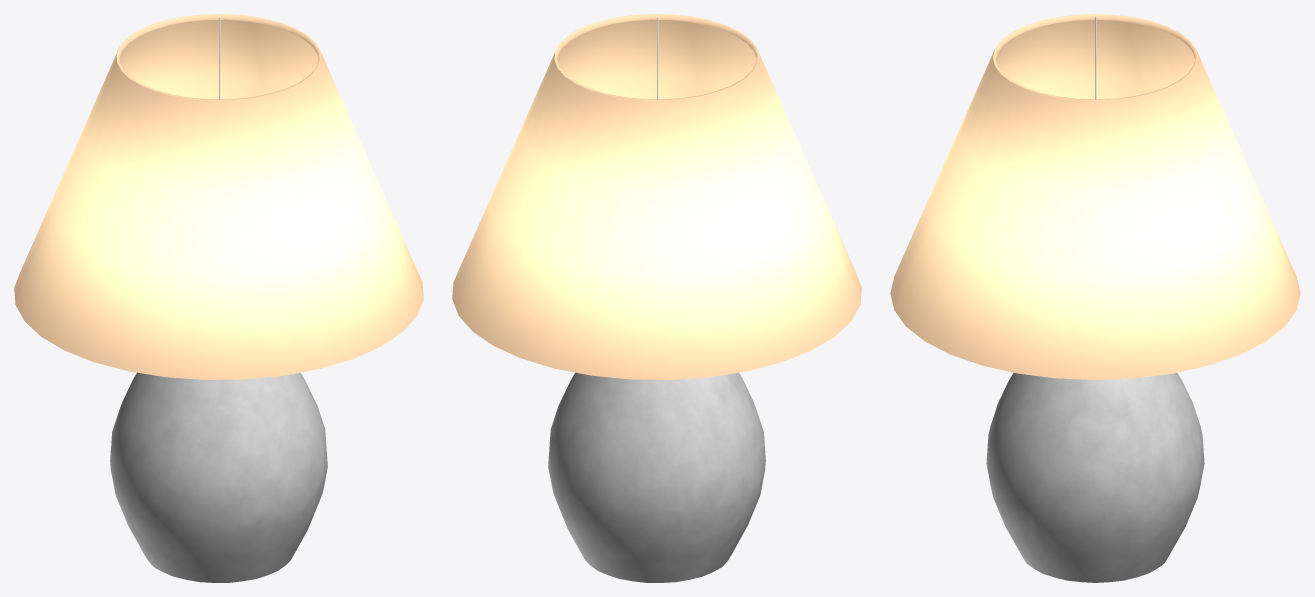
Rendered from NH11TableLamp.fbx.
3 views of the same model, side by side, from view 1: azimuth 30°, elevation 25°; view 2: azimuth 150°, elevation 25°; view 3: azimuth 270°, elevation 25° (orthographic).
Visible parts, largest first — view 1: NH11TableLamp; view 2: NH11TableLamp; view 3: NH11TableLamp.
Boxes of the visible parts, left/top/right/bottom form: NH11TableLamp: left=14, top=14, right=423, bottom=582; NH11TableLamp: left=452, top=14, right=861, bottom=582; NH11TableLamp: left=890, top=14, right=1300, bottom=582.
Bounding box in the file's own units: 19.98 × 26.59 × 19.98.
